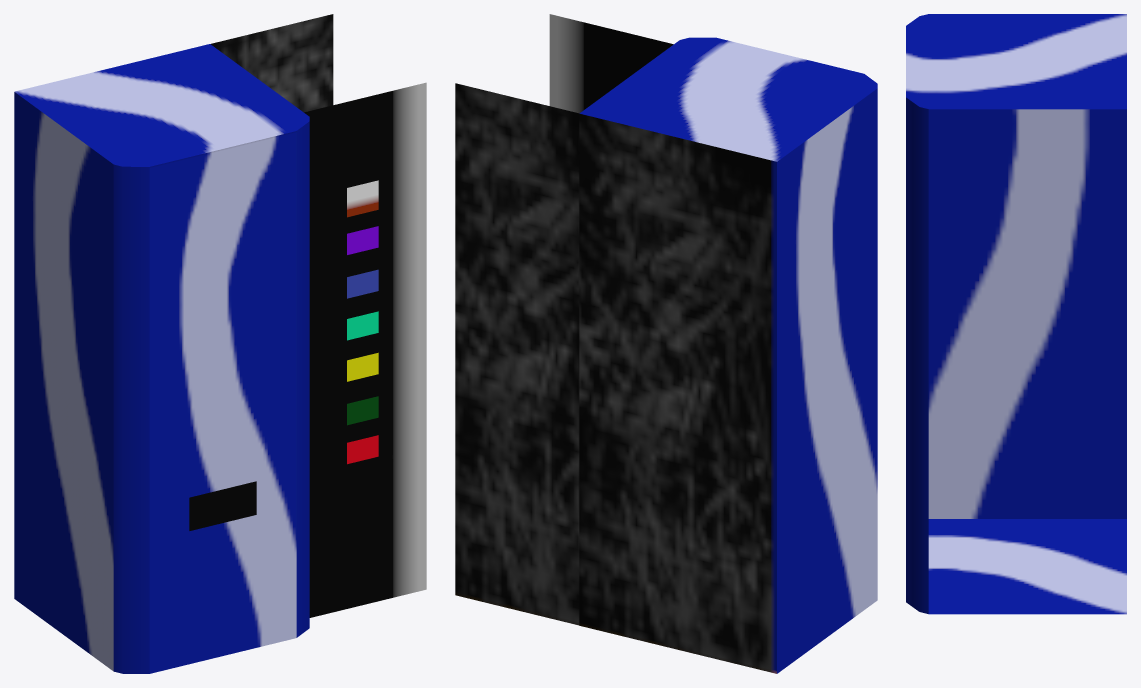
File: MaquinaDeSodaLOD0.fbx
3 views of the same model, side by side, from view 1: azimuth 30°, elevation 25°; view 2: azimuth 150°, elevation 25°; view 3: azimuth 270°, elevation 25° (orthographic).
Parts seen in each view (by area): view 1: MaquinaDeSodaLOD0; view 2: MaquinaDeSodaLOD0; view 3: MaquinaDeSodaLOD0.
Boxes of the visible parts, bbox=[...] form: MaquinaDeSodaLOD0: bbox=[14, 14, 426, 673]; MaquinaDeSodaLOD0: bbox=[455, 14, 877, 673]; MaquinaDeSodaLOD0: bbox=[906, 14, 1126, 614].
Bounding box in the file's own units: 135 × 205 × 81.23.
